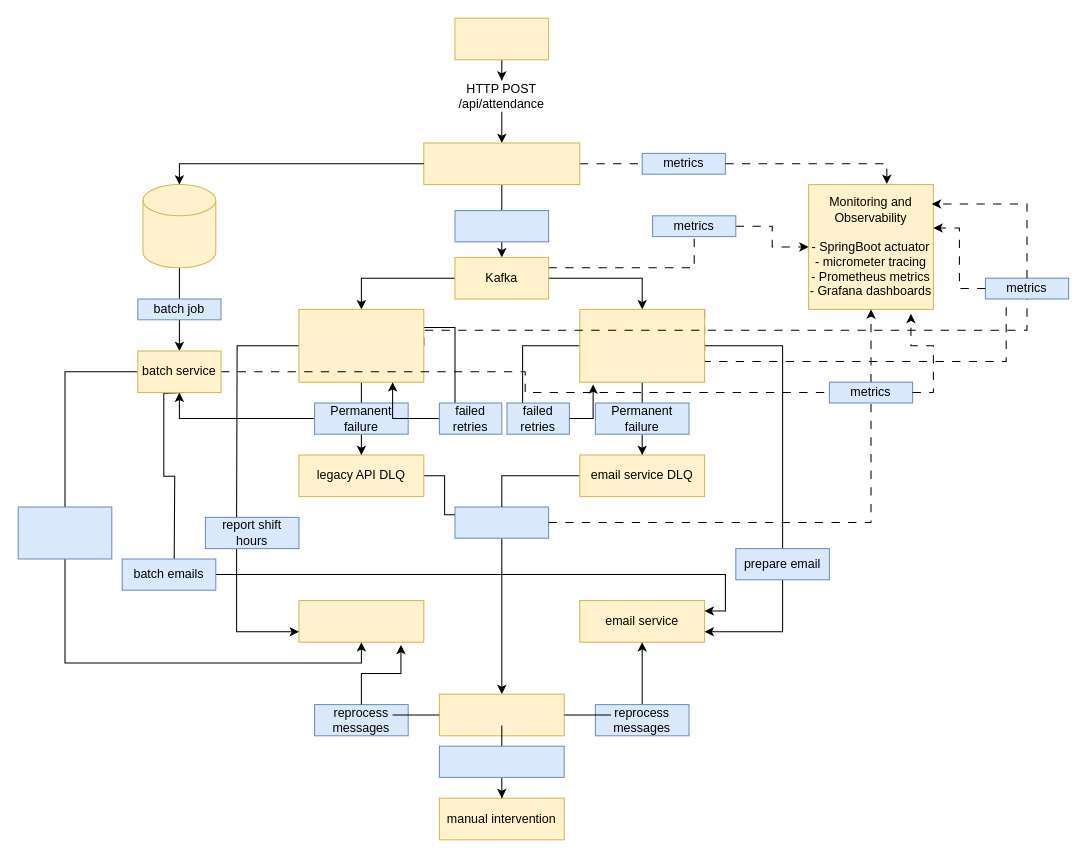
The diagram is 1087 pixels wide and 858 high, and some of its shapes have lost their labels. Each missing label, with the box of its shape:
batch reports for working hours: (17, 506, 112, 559)
Card Reader: (454, 17, 549, 60)
check-in/check-out service (Spring Boot): (423, 142, 580, 185)
DLQ alerts: (454, 506, 549, 538)
email service Kafka Consumer 2: (579, 308, 705, 382)
legacy API: (298, 600, 424, 642)
legacy recording system Kafka Consumer 1: (298, 308, 424, 382)
message reprocessing failed: (438, 745, 564, 777)
PostgreSQL: (142, 184, 216, 268)
publish to kafka topic: (454, 210, 549, 242)
raise incident: (438, 693, 564, 736)
